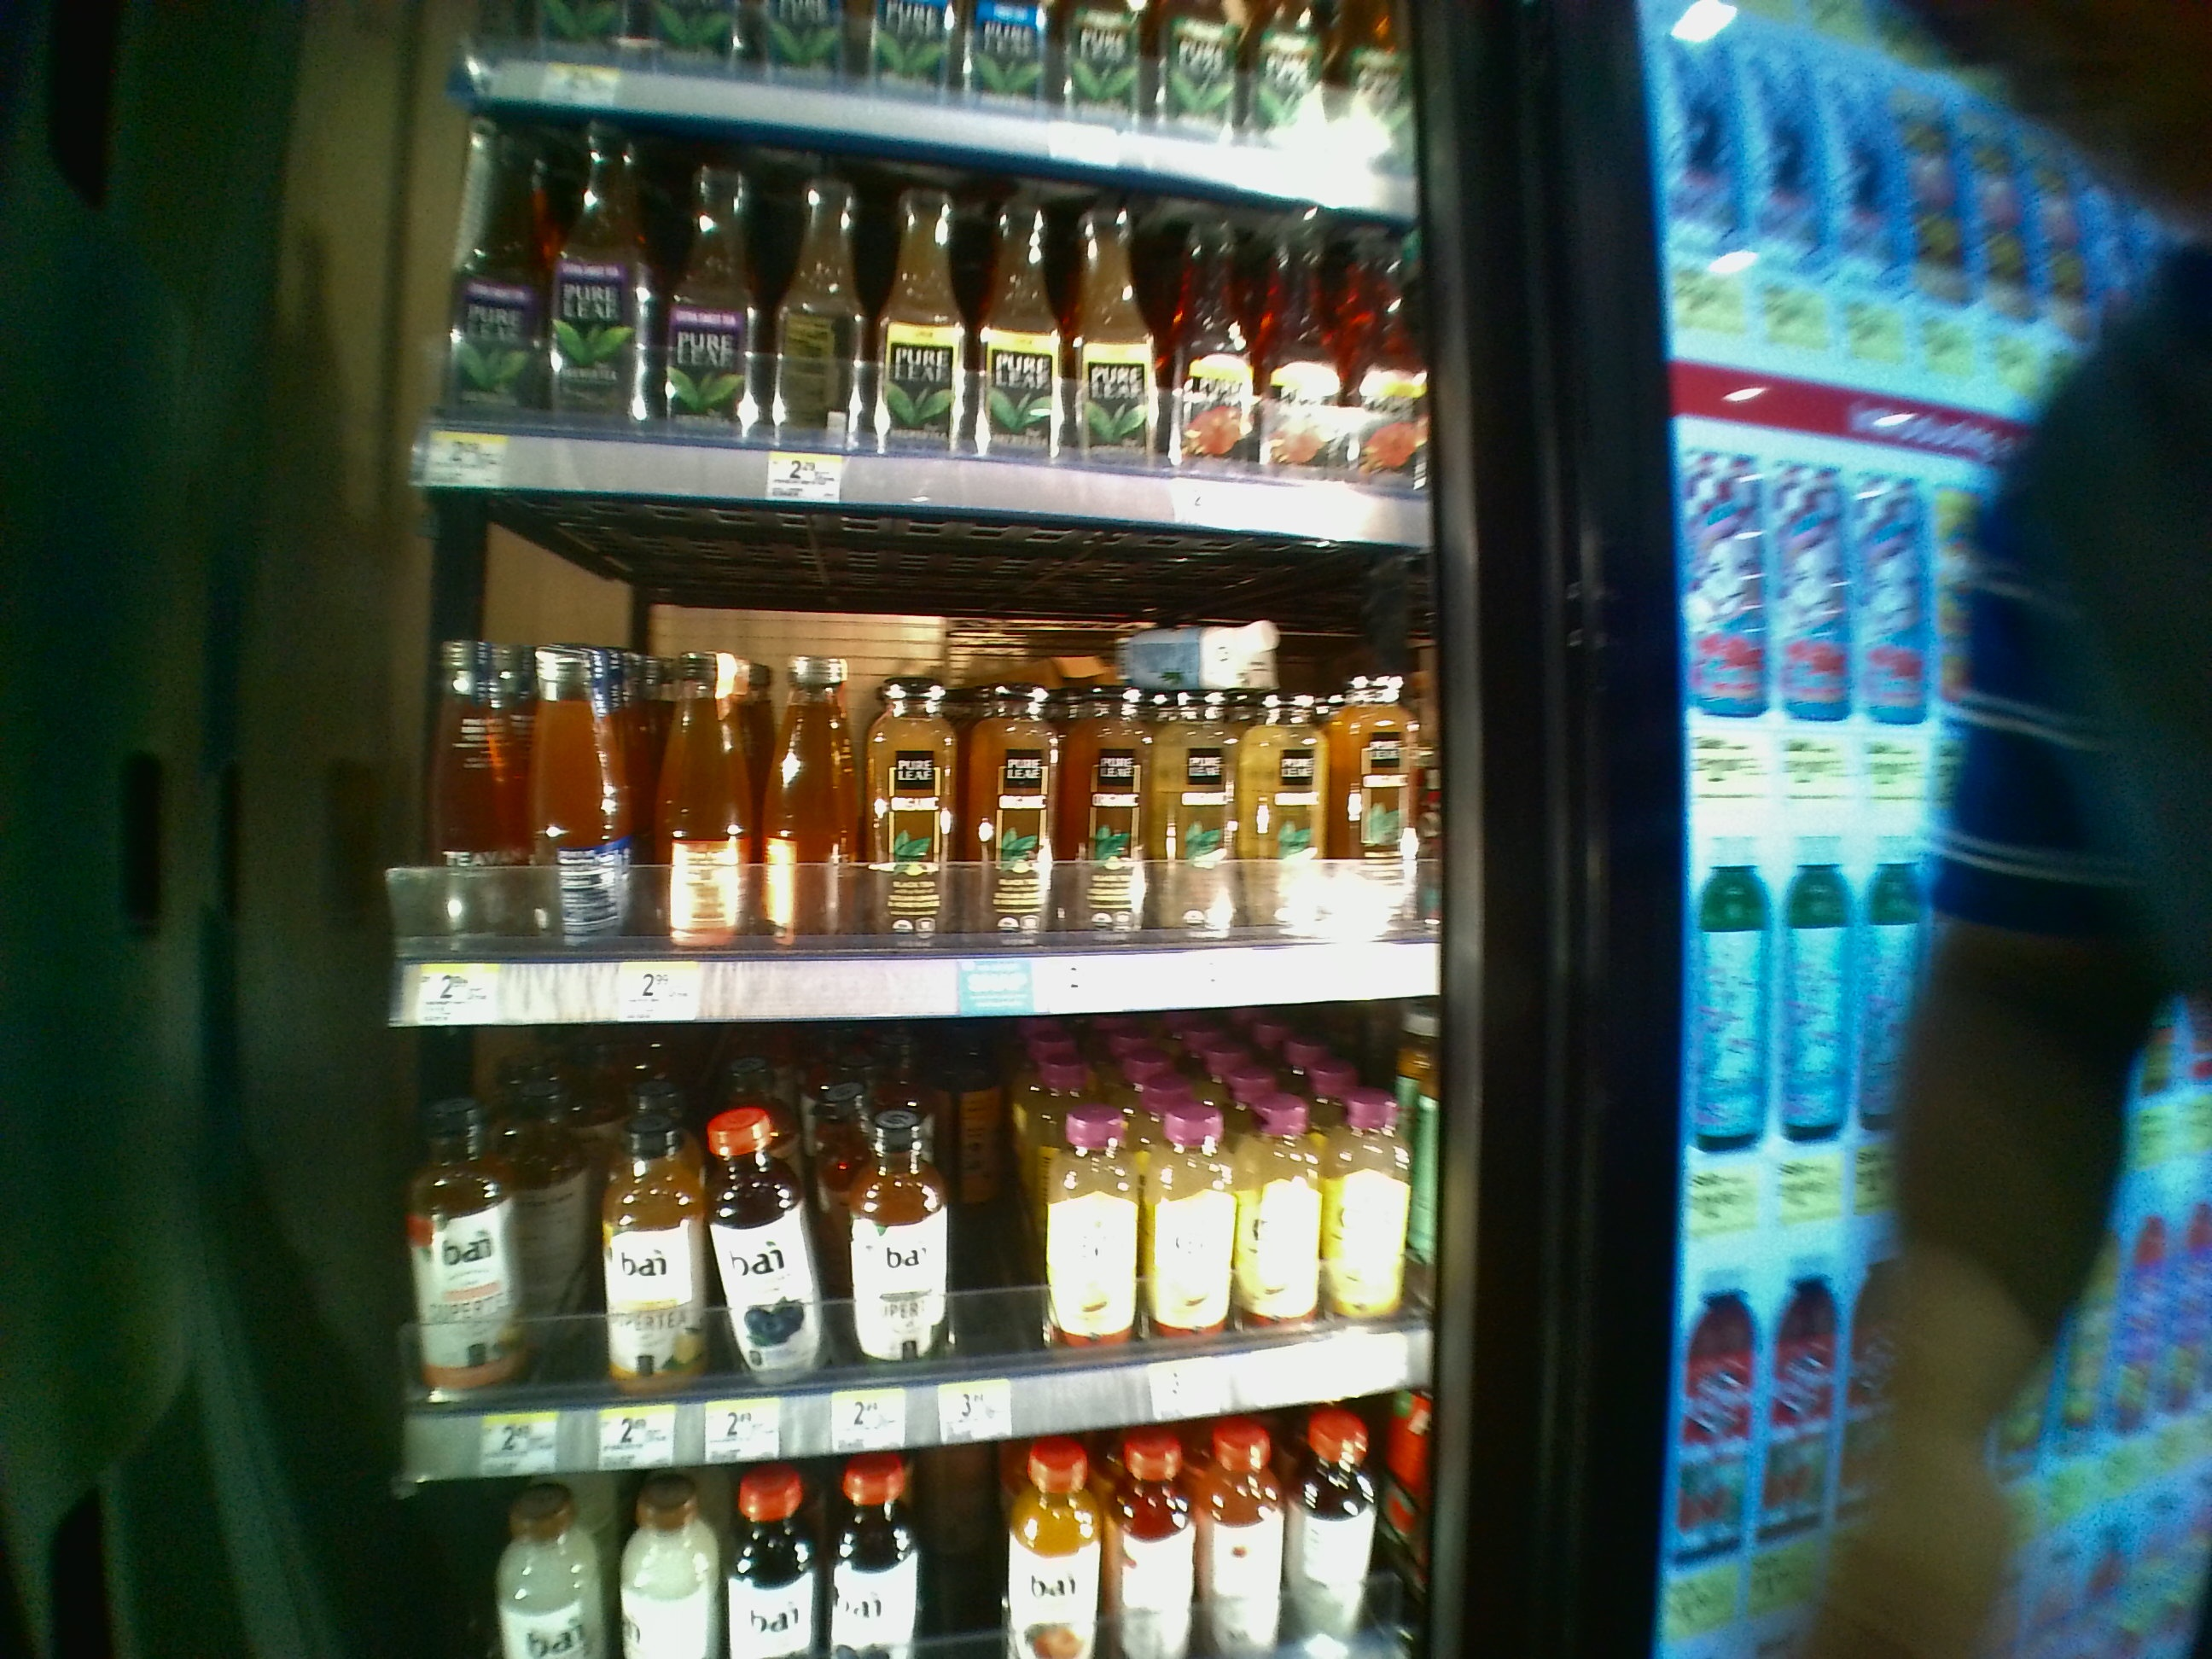shelf: (387, 495, 1440, 1019), (388, 1037, 1447, 1476)
